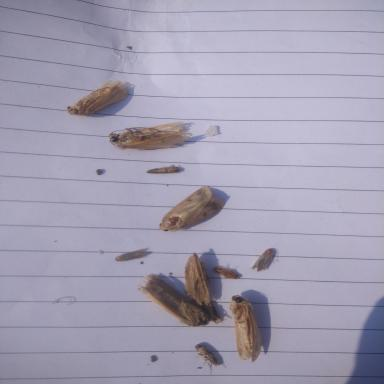abw: (136, 268, 211, 328), (156, 186, 232, 233), (228, 293, 268, 364), (105, 122, 193, 152), (66, 77, 128, 119)
pbw: (194, 343, 222, 377), (251, 247, 282, 273), (114, 246, 152, 263), (145, 165, 183, 174)
